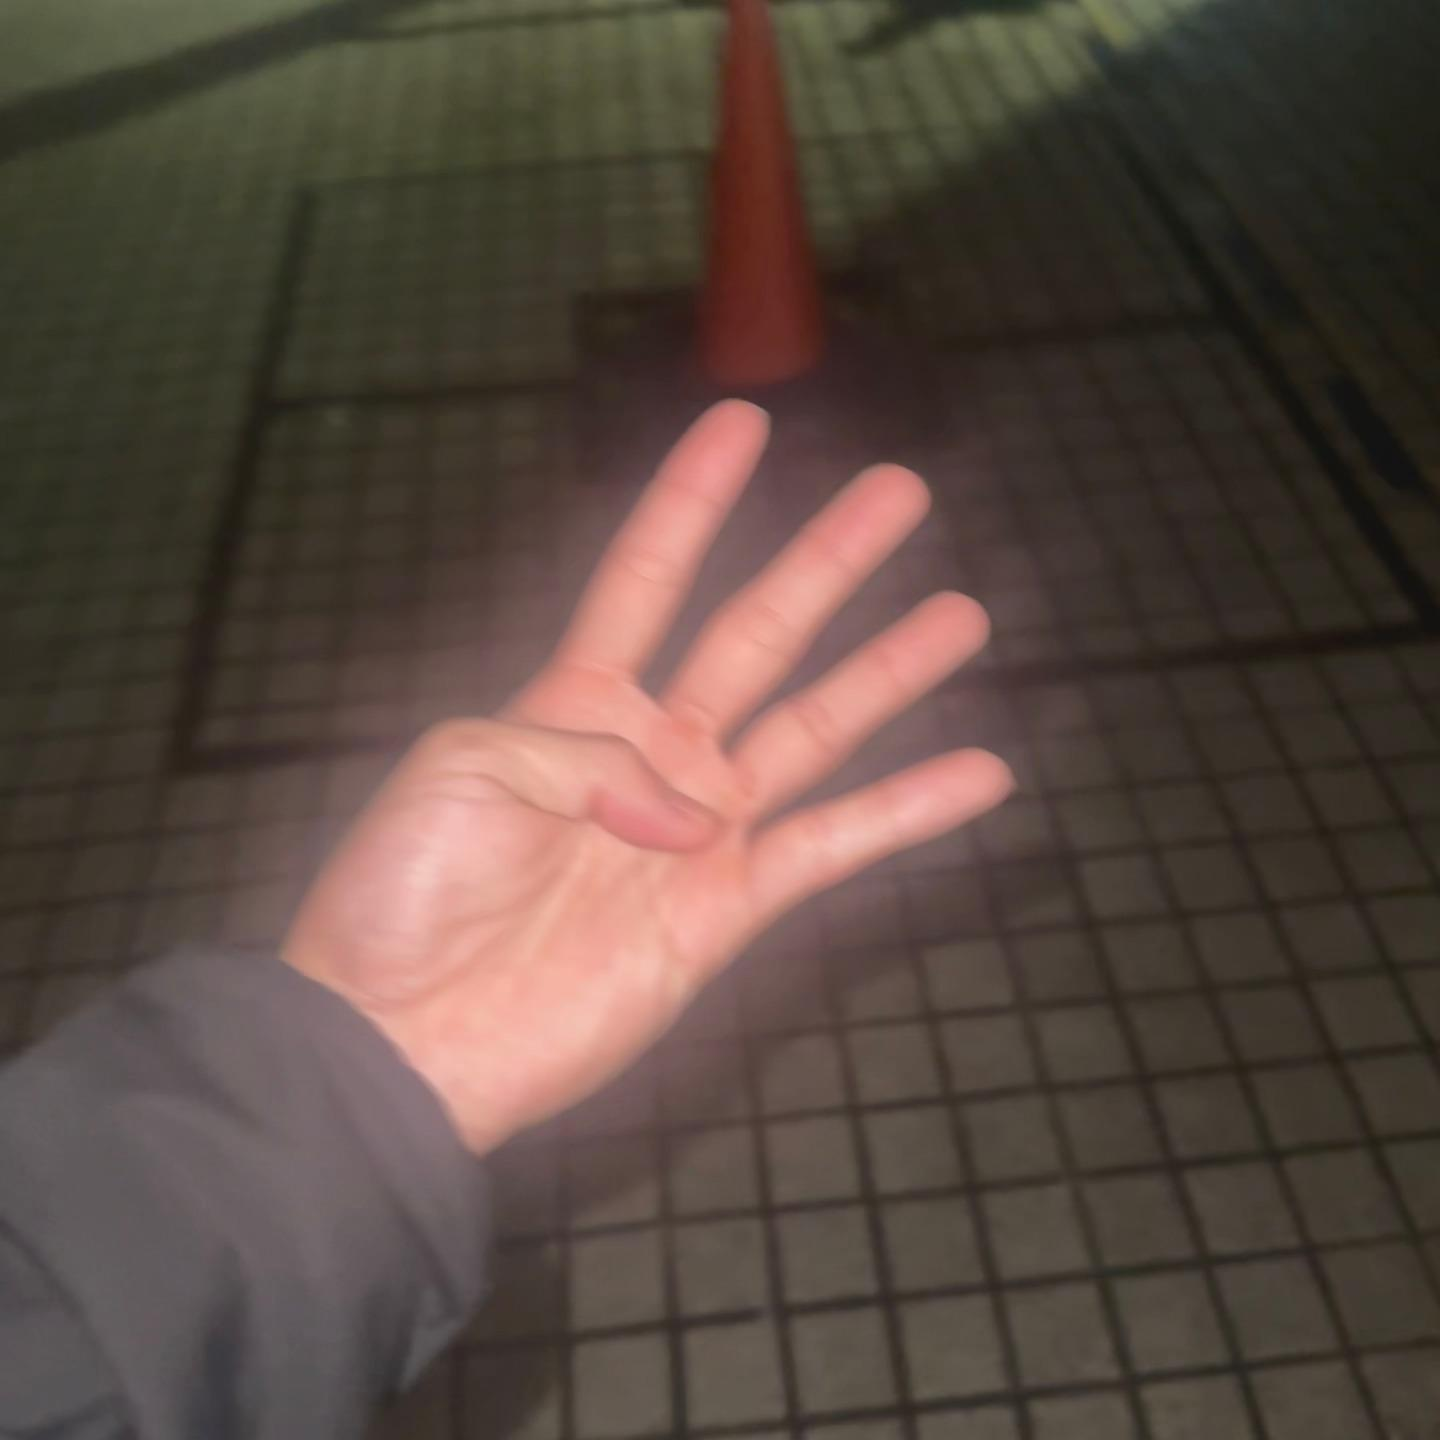without_gloves: (227, 256, 1134, 1167)
